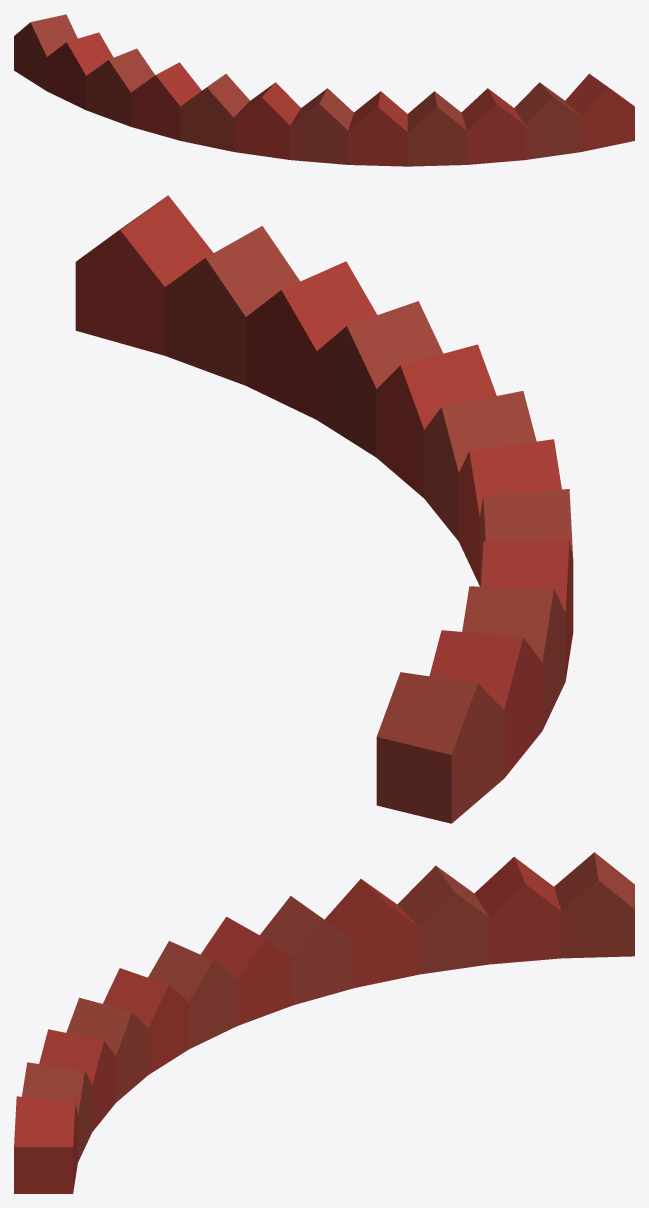
File: FMS_Garden_Edging_Brick_Curve.fbx
3 views of the same model, one above another, from view 1: azimuth 30°, elevation 25°; view 2: azimuth 150°, elevation 25°; view 3: azimuth 270°, elevation 25° (orthographic). The views are drawn at different scales.
Parts seen in each view (by area): view 1: FMS_Garden_Edging_Brick_Curve_Body; view 2: FMS_Garden_Edging_Brick_Curve_Body; view 3: FMS_Garden_Edging_Brick_Curve_Body.
Boxes of the visible parts, box(x1,y1,x2,y2) form: FMS_Garden_Edging_Brick_Curve_Body: box(14, 14, 634, 166); FMS_Garden_Edging_Brick_Curve_Body: box(75, 195, 573, 823); FMS_Garden_Edging_Brick_Curve_Body: box(14, 852, 634, 1193).
Bounding box in the file's own units: 1.05 × 0.15 × 1.05.
Materials: 1 (1 with a texture image).
